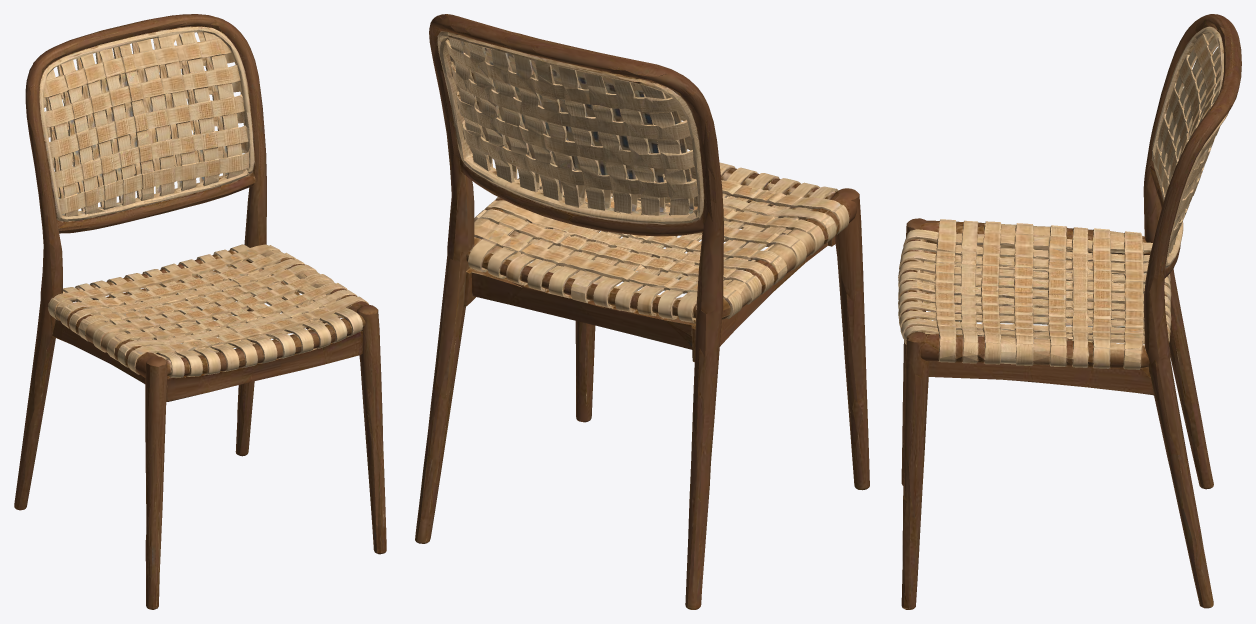
3 renders of one model, left to right at view 1: azimuth 30°, elevation 25°; view 2: azimuth 150°, elevation 25°; view 3: azimuth 270°, elevation 25°, orthographic. The views are drawn at different scales.
Parts seen in each view (by area): view 1: Mesh_0; view 2: Mesh_0; view 3: Mesh_0.
Boxes of the visible parts, bbox=[...] form: Mesh_0: bbox=[14, 14, 386, 609]; Mesh_0: bbox=[415, 14, 869, 609]; Mesh_0: bbox=[898, 14, 1241, 609].
Bounding box in the file's own units: 0.46 × 0.82 × 0.52.
Materials: 1 (1 with a texture image).
